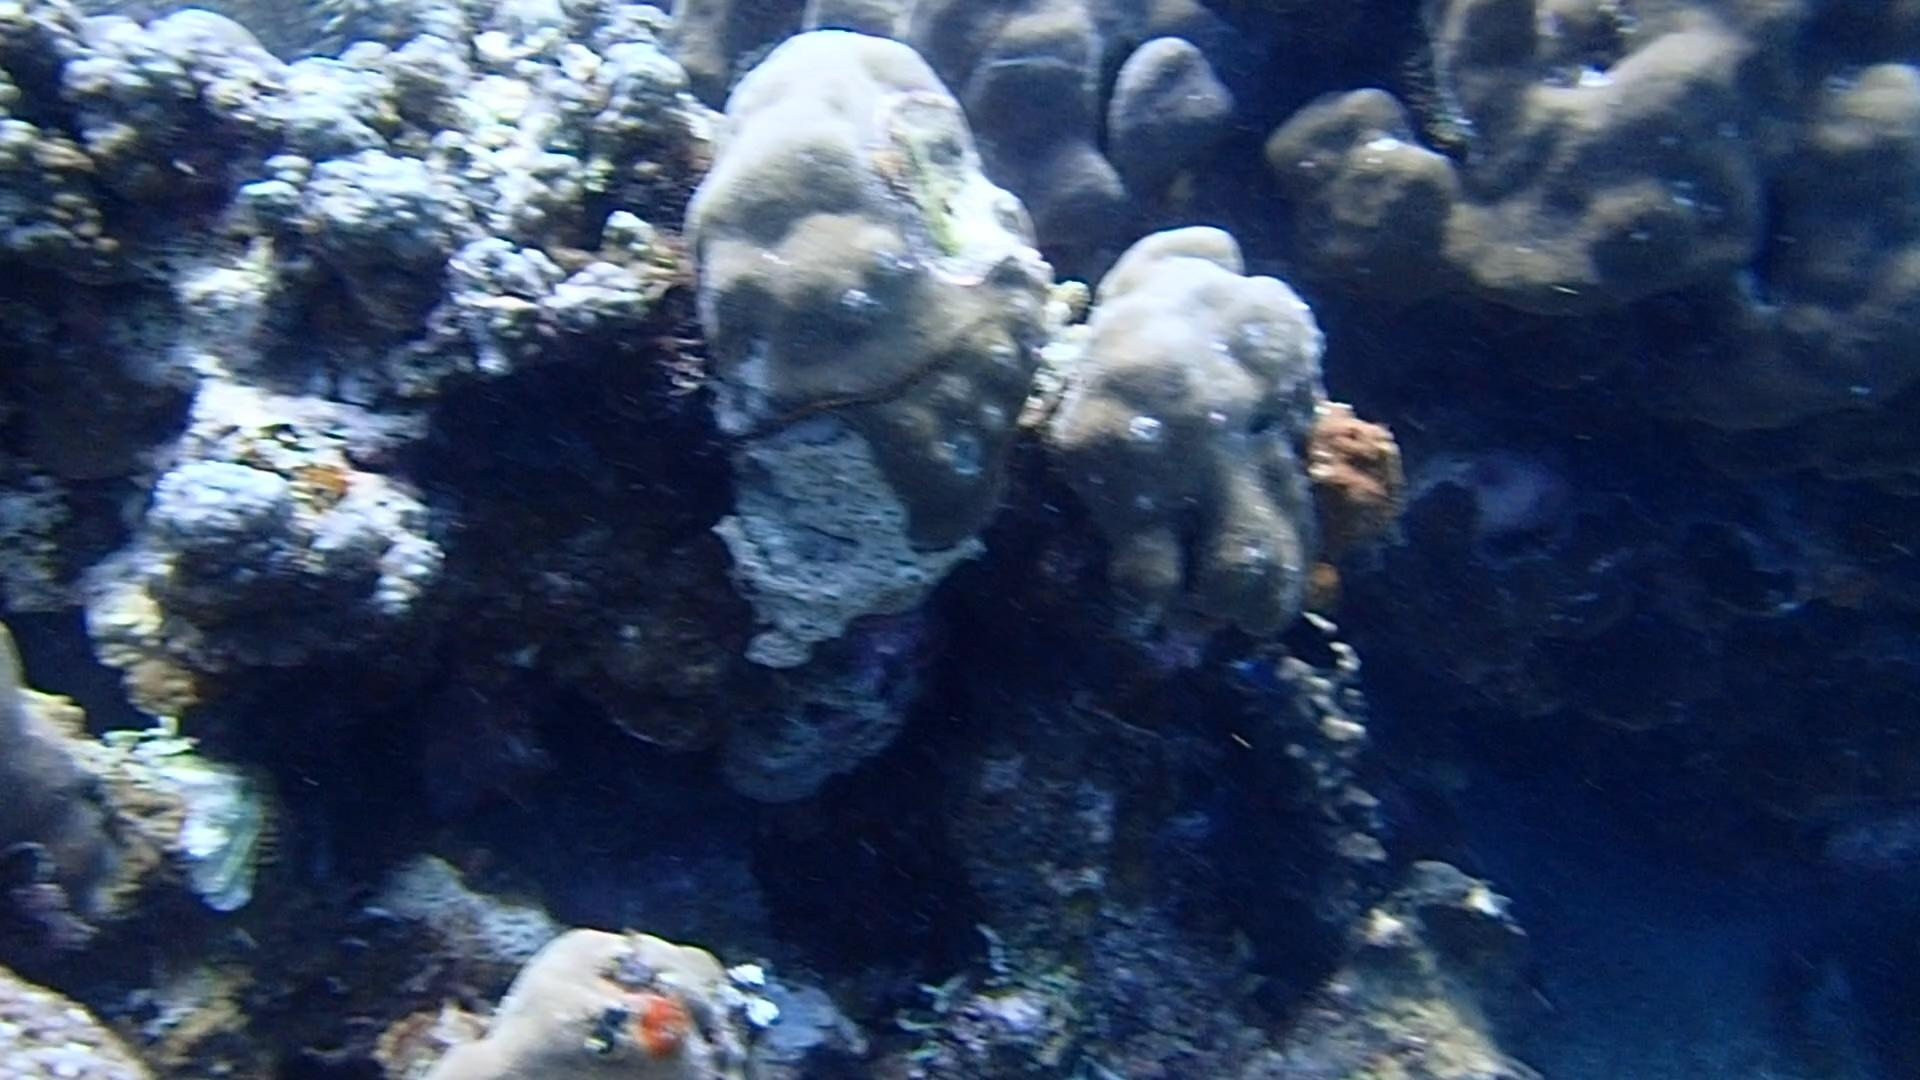Dark Fish: (1270, 603, 1357, 687)
